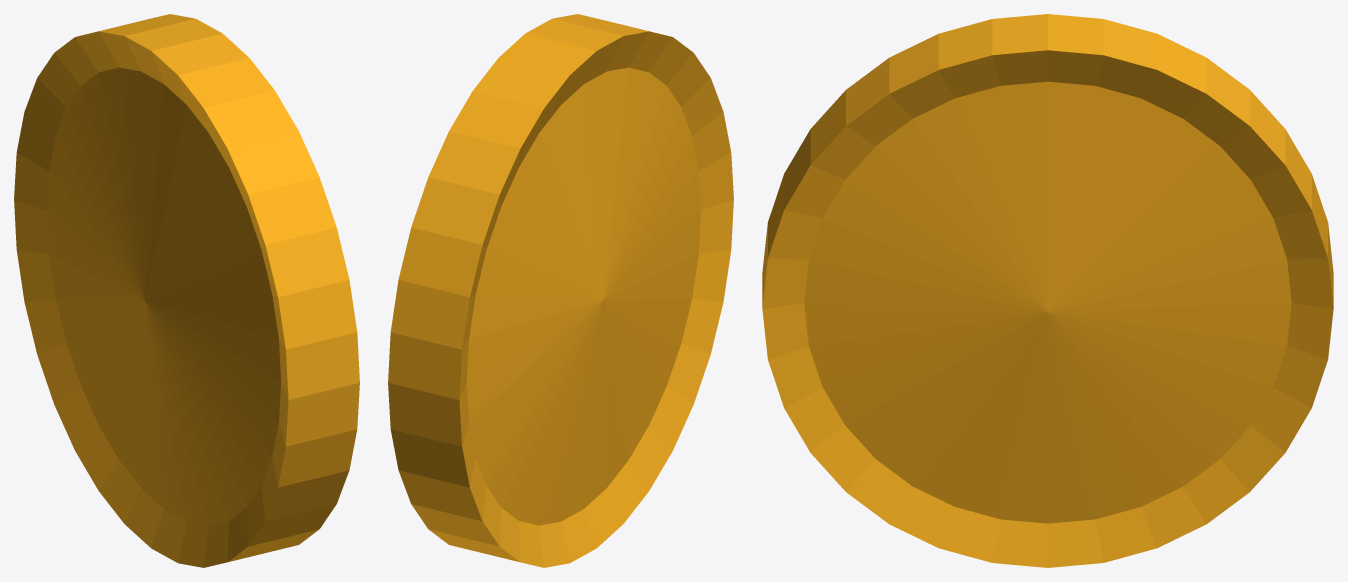
Rendered from coin.obj.
3 renders of one model, left to right at view 1: azimuth 30°, elevation 25°; view 2: azimuth 150°, elevation 25°; view 3: azimuth 270°, elevation 25°, orthographic. The views are drawn at different scales.
Bounding box in the file's own units: 0.6923 × 3.94 × 3.94.
1 material, 1 textured.
